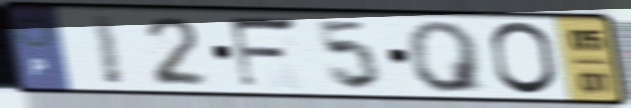2: (141, 14, 212, 87)
5: (313, 18, 383, 93)
F: (225, 15, 304, 93)
I: (87, 11, 128, 88)
O: (487, 19, 562, 98)
Q: (403, 19, 491, 96)
